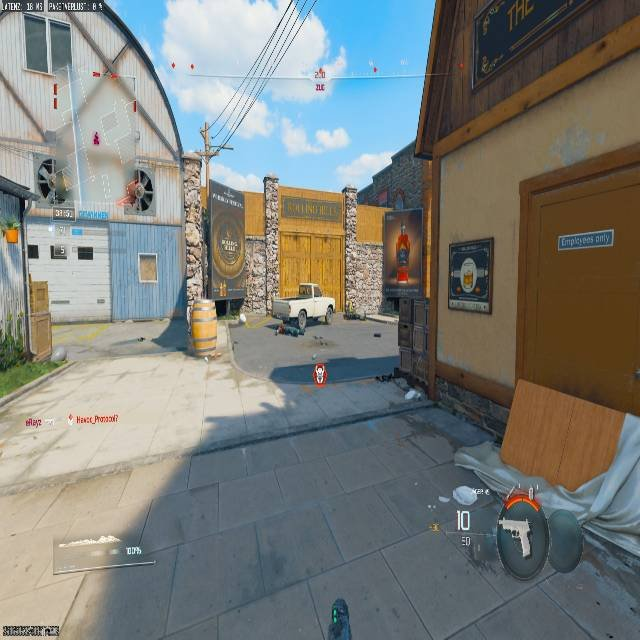player: (35, 157, 70, 205), (132, 170, 153, 211)
